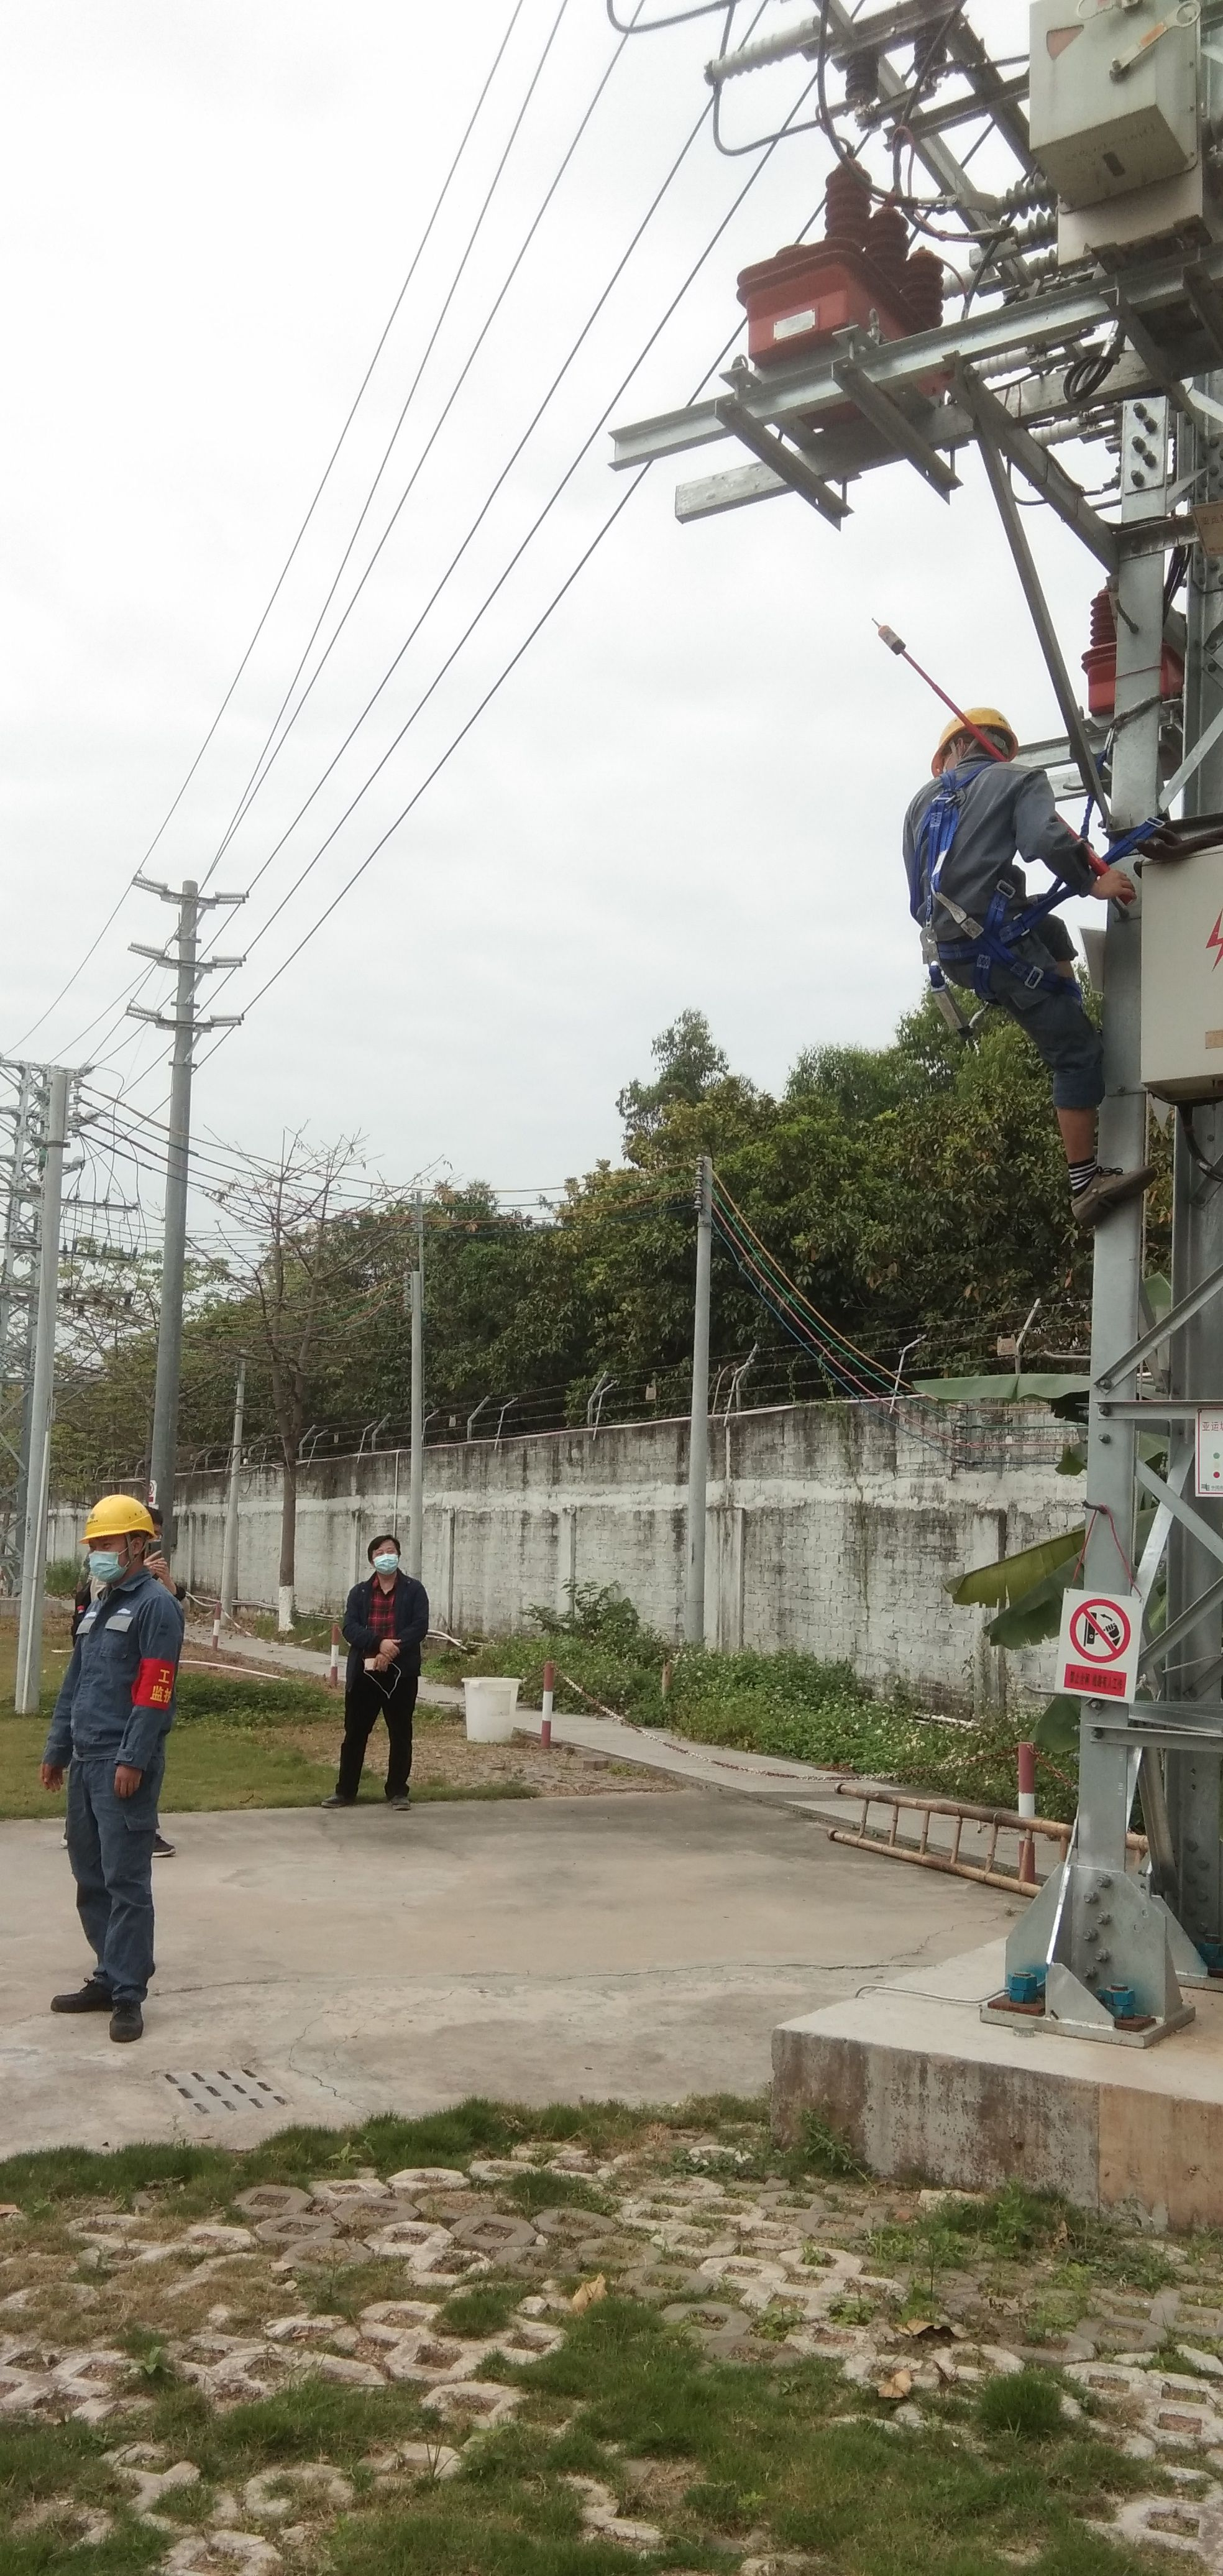downcloth: (343, 1687, 419, 1797)
downsuit: (967, 936, 1113, 1143), (64, 1784, 164, 1996)
upcloth: (345, 1582, 428, 1682)
upsuit: (911, 764, 1075, 935), (61, 1585, 186, 1773)
wrongbottom: (1042, 1058, 1111, 1184)
